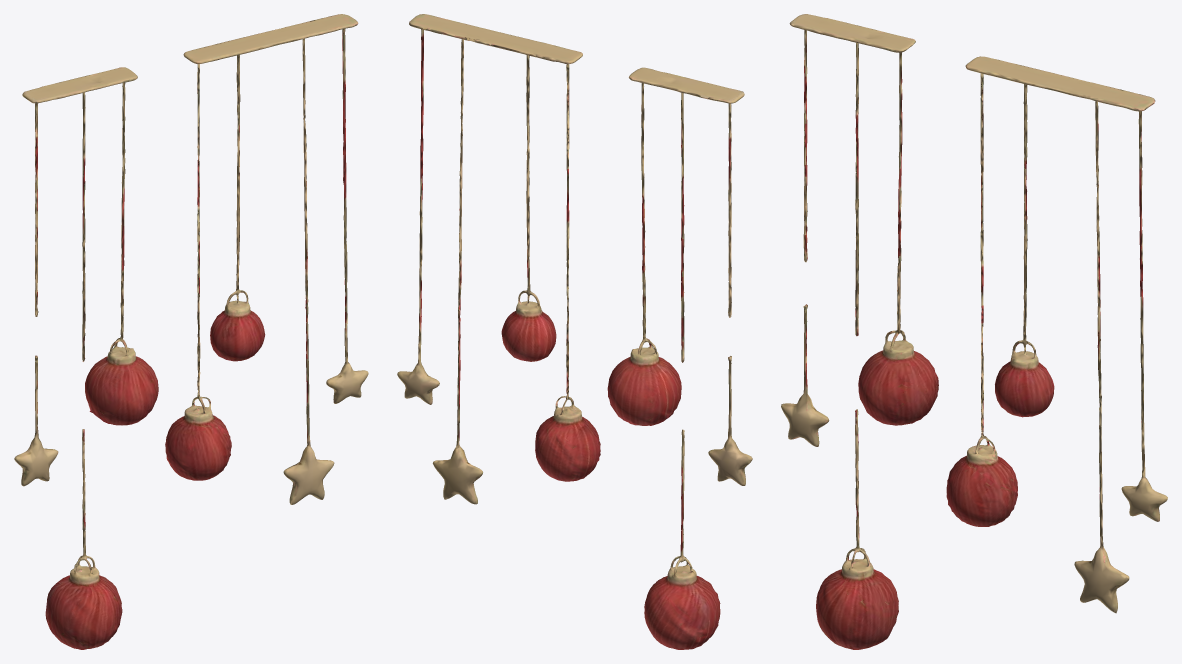
Rendered from xm_ornament.glb.
The picture shows the model from 3 angles, left to right: view 1: azimuth 30°, elevation 25°; view 2: azimuth 150°, elevation 25°; view 3: azimuth 330°, elevation 25°; orthographic projection. The views are drawn at different scales.
Parts seen in each view (by area): view 1: Mesh_0; view 2: Mesh_0; view 3: Mesh_0.
Part boxes in pixels (box(x1,y1,x2,y2)): Mesh_0: box(14, 14, 368, 649); Mesh_0: box(397, 14, 752, 649); Mesh_0: box(781, 14, 1167, 649).
Size of the model in its own units: 0.0329 by 0.05 by 0.00623.
Materials: 1 (1 with a texture image).
